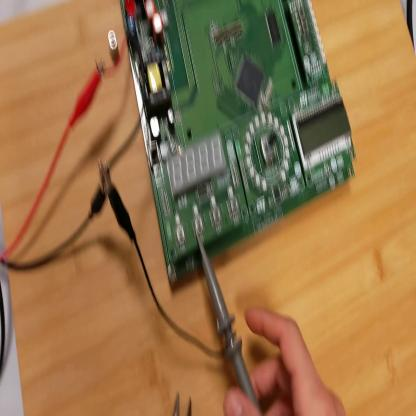hand: (224, 309, 349, 416)
low voltage board: (107, 3, 360, 300)
oscilloscope probe tip: (200, 244, 261, 415)
working area: (2, 2, 416, 414)
